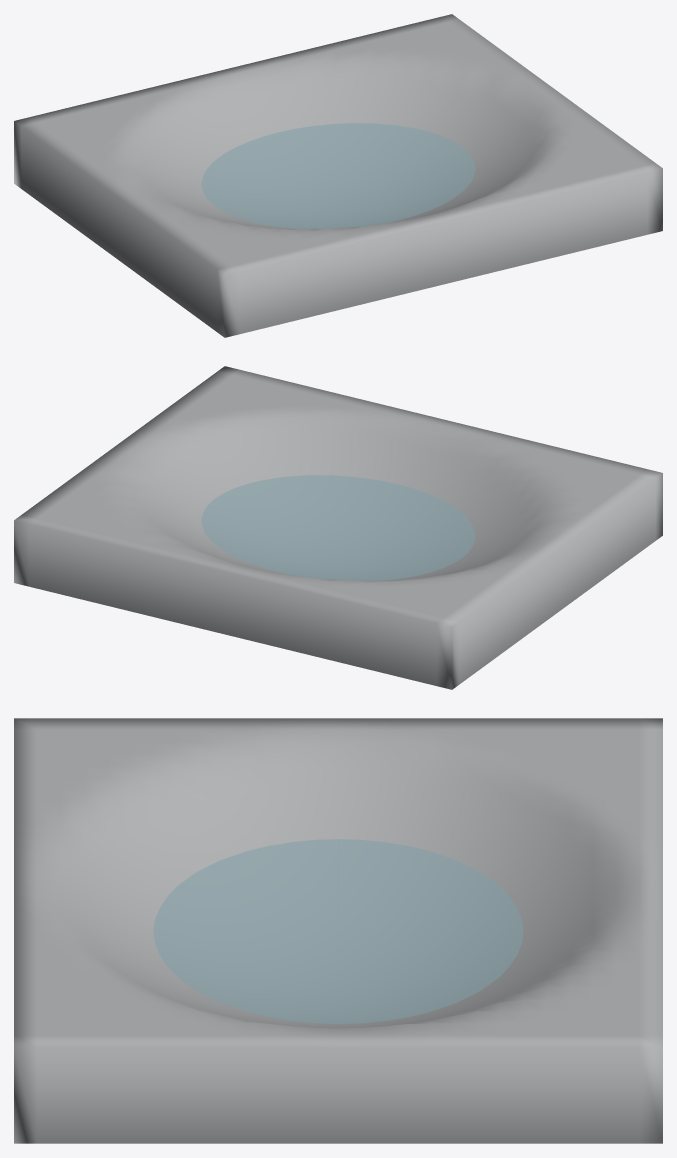
The model's file is alpine-and-arctic-biomes-glacial-tarn-7a740ece__21056.glb.
The picture shows the model from 3 angles, top to bottom: view 1: azimuth 30°, elevation 25°; view 2: azimuth 150°, elevation 25°; view 3: azimuth 270°, elevation 25°; orthographic projection. The views are drawn at different scales.
Visible parts, largest first — view 1: glacial-tarn; view 2: glacial-tarn; view 3: glacial-tarn.
Boxes of the visible parts, left/top/right/bottom form: glacial-tarn: left=14, top=14, right=662, bottom=337; glacial-tarn: left=14, top=366, right=662, bottom=689; glacial-tarn: left=14, top=718, right=662, bottom=1143.
Bounding box in the file's own units: 6 × 0.8196 × 5.
